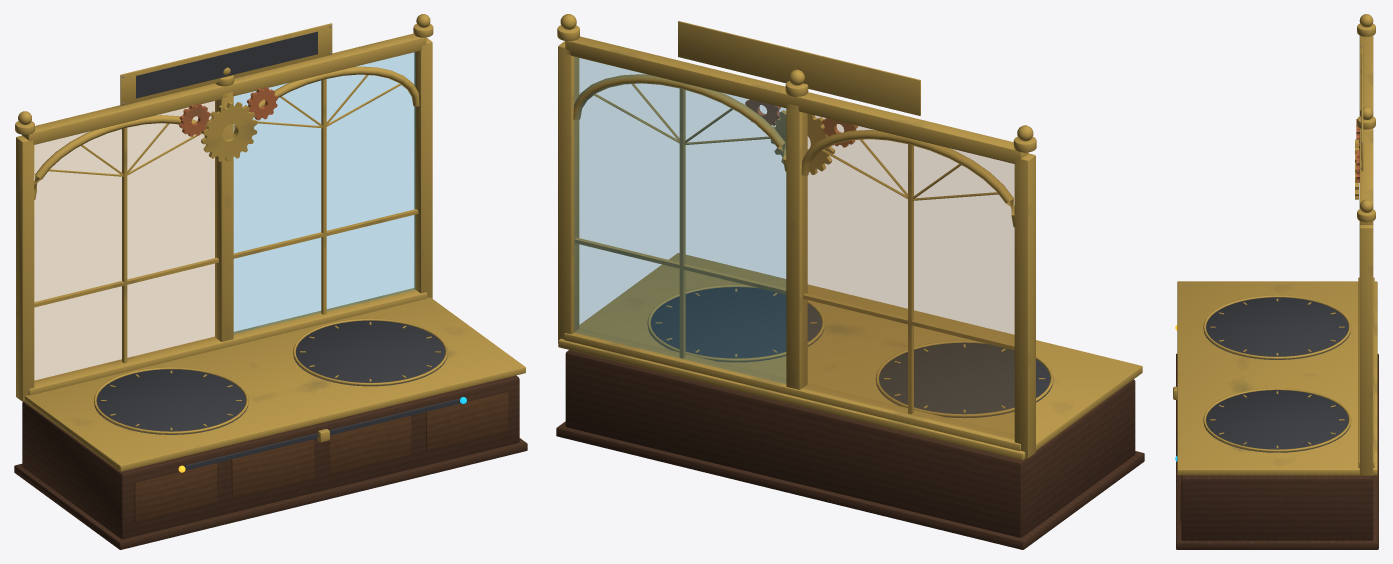
The model's file is time_window.glb.
3 renders of one model, left to right at view 1: azimuth 30°, elevation 25°; view 2: azimuth 150°, elevation 25°; view 3: azimuth 270°, elevation 25°, orthographic. The views are drawn at different scales.
Visible parts, largest first — view 1: time_window_static, crest_static; view 2: time_window_static, crest_static; view 3: time_window_static, crest_static.
Part boxes in pixels (x1,y1,x2,y2): time_window_static: (14,14,527,549); crest_static: (120,23,332,105); time_window_static: (556,14,1144,549); crest_static: (678,21,920,115); time_window_static: (1173,14,1378,549); crest_static: (1360,43,1363,171).
Size of the model in its own units: 3.34 by 2.92 by 1.5.
10 materials, 4 textured.
